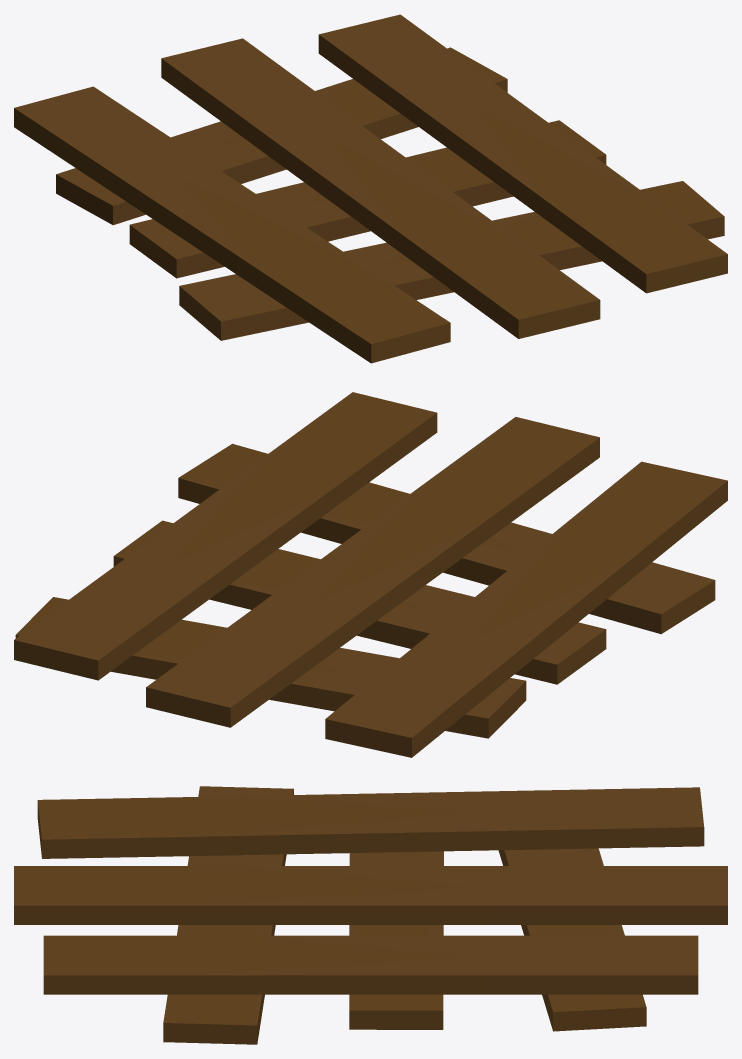
The model's file is EmptyPallette.fbx.
The picture shows the model from 3 angles, top to bottom: view 1: azimuth 30°, elevation 25°; view 2: azimuth 150°, elevation 25°; view 3: azimuth 270°, elevation 25°; orthographic projection. The views are drawn at different scales.
Parts seen in each view (by area): view 1: Pallette; view 2: Pallette; view 3: Pallette.
Boxes of the visible parts, x1,y1,x2,y2 form: Pallette: (14,14,727,363); Pallette: (14,392,727,757); Pallette: (14,786,727,1044).
Size of the model in its own units: 55.3 by 4.23 by 69.74.
